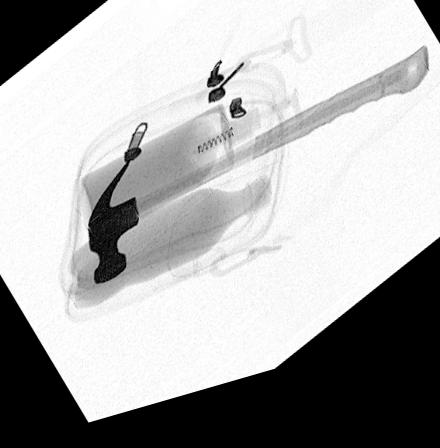Hammer: (85, 68, 429, 291)
